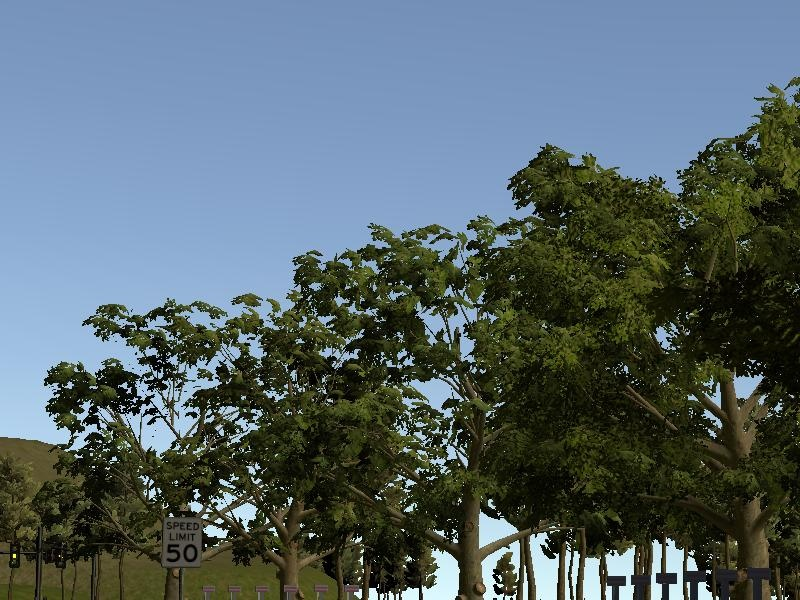yellow: (8, 543, 22, 568)
